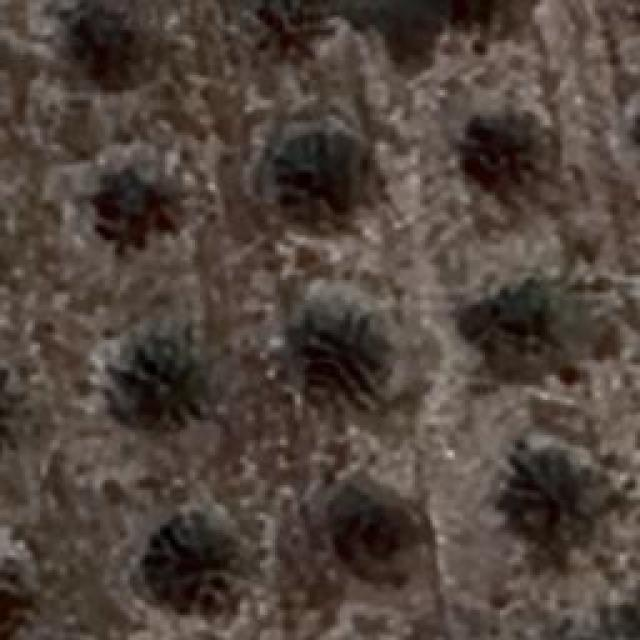PalmTree: (510, 450, 622, 558), (110, 335, 215, 430), (285, 308, 383, 402), (148, 515, 242, 610), (485, 291, 570, 379), (295, 134, 375, 212), (68, 13, 148, 88), (466, 108, 544, 182), (339, 498, 409, 580), (101, 172, 179, 236), (418, 0, 550, 32), (261, 0, 321, 52), (0, 364, 28, 466)
